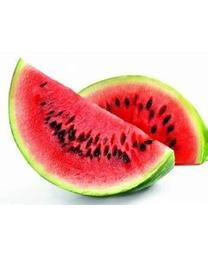watermelon: (7, 56, 177, 196), (61, 74, 207, 168)
